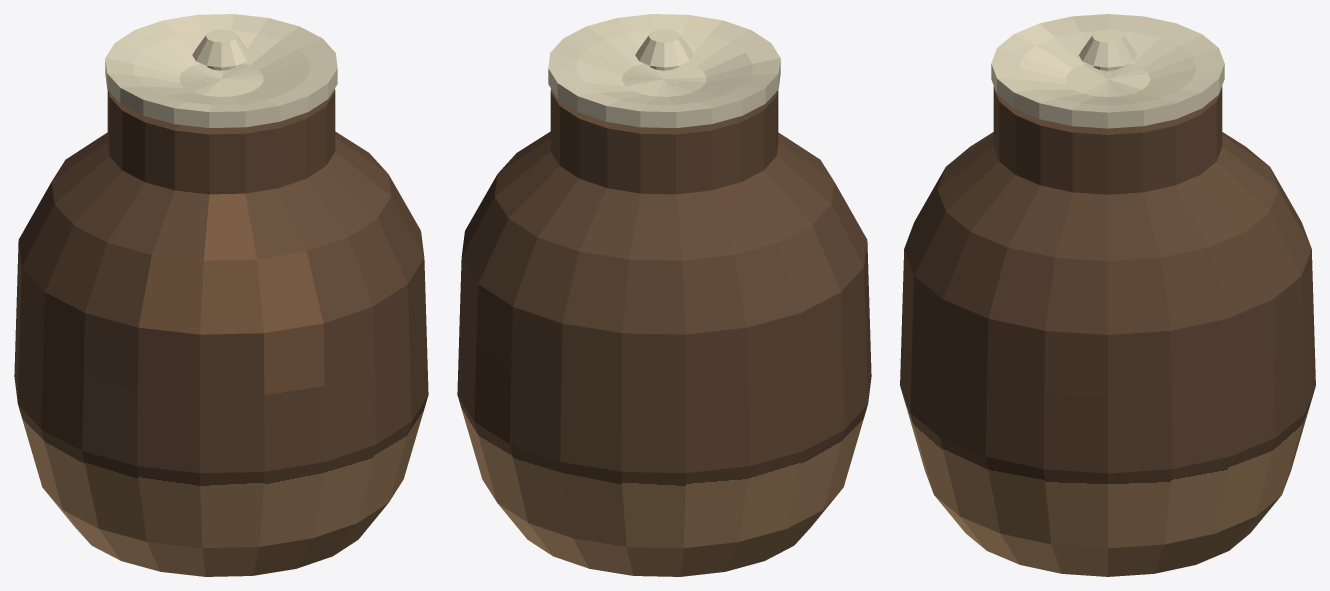
File: antique-seto-hitorine.glb
3 views of the same model, side by side, from view 1: azimuth 30°, elevation 25°; view 2: azimuth 150°, elevation 25°; view 3: azimuth 270°, elevation 25° (orthographic).
Visible parts, largest first — view 1: antique-seto-hitorine/vessel-3, antique-seto-hitorine/vessel-4, antique-seto-hitorine/vessel-2, antique-seto-hitorine/vessel-5, antique-seto-hitorine/vessel-6, antique-seto-hitorine/vessel-1, antique-seto-hitorine/lid-3, antique-seto-hitorine/lid-4, antique-seto-hitorine/lid-2, antique-seto-hitorine/lid-0, antique-seto-hitorine/lid-knob, antique-seto-hitorine/vessel-7; view 2: antique-seto-hitorine/vessel-3, antique-seto-hitorine/vessel-4, antique-seto-hitorine/vessel-2, antique-seto-hitorine/vessel-5, antique-seto-hitorine/vessel-6, antique-seto-hitorine/vessel-1, antique-seto-hitorine/lid-3, antique-seto-hitorine/lid-4, antique-seto-hitorine/lid-2, antique-seto-hitorine/lid-0, antique-seto-hitorine/lid-knob, antique-seto-hitorine/vessel-7; view 3: antique-seto-hitorine/vessel-3, antique-seto-hitorine/vessel-4, antique-seto-hitorine/vessel-2, antique-seto-hitorine/vessel-5, antique-seto-hitorine/vessel-6, antique-seto-hitorine/vessel-1, antique-seto-hitorine/lid-3, antique-seto-hitorine/lid-4, antique-seto-hitorine/lid-2, antique-seto-hitorine/lid-0, antique-seto-hitorine/lid-knob, antique-seto-hitorine/vessel-7.
Boxes of the visible parts, x1,y1,x2,y2 form: antique-seto-hitorine/vessel-3: [14, 242, 428, 473]; antique-seto-hitorine/vessel-4: [18, 175, 424, 334]; antique-seto-hitorine/vessel-2: [18, 395, 428, 548]; antique-seto-hitorine/vessel-5: [51, 131, 391, 260]; antique-seto-hitorine/vessel-6: [107, 90, 335, 194]; antique-seto-hitorine/vessel-1: [44, 489, 388, 576]; antique-seto-hitorine/lid-3: [105, 14, 337, 112]; antique-seto-hitorine/lid-4: [133, 30, 309, 104]; antique-seto-hitorine/lid-2: [105, 59, 337, 127]; antique-seto-hitorine/lid-0: [179, 63, 263, 96]; antique-seto-hitorine/lid-knob: [192, 29, 250, 67]; antique-seto-hitorine/vessel-7: [109, 89, 335, 134]; antique-seto-hitorine/vessel-3: [457, 242, 871, 473]; antique-seto-hitorine/vessel-4: [461, 175, 867, 334]; antique-seto-hitorine/vessel-2: [457, 395, 867, 548]; antique-seto-hitorine/vessel-5: [494, 131, 834, 260]; antique-seto-hitorine/vessel-6: [550, 90, 778, 194]; antique-seto-hitorine/vessel-1: [497, 489, 841, 576]; antique-seto-hitorine/lid-3: [548, 14, 780, 112]; antique-seto-hitorine/lid-4: [576, 30, 752, 104]; antique-seto-hitorine/lid-2: [548, 59, 780, 127]; antique-seto-hitorine/lid-0: [622, 63, 706, 96]; antique-seto-hitorine/lid-knob: [635, 29, 693, 67]; antique-seto-hitorine/vessel-7: [550, 89, 776, 134]; antique-seto-hitorine/vessel-3: [900, 249, 1315, 473]; antique-seto-hitorine/vessel-4: [904, 168, 1311, 334]; antique-seto-hitorine/vessel-2: [900, 387, 1315, 548]; antique-seto-hitorine/vessel-5: [937, 132, 1278, 260]; antique-seto-hitorine/vessel-6: [993, 87, 1222, 194]; antique-seto-hitorine/vessel-1: [934, 495, 1281, 576]; antique-seto-hitorine/lid-3: [991, 14, 1224, 112]; antique-seto-hitorine/lid-4: [1019, 31, 1196, 105]; antique-seto-hitorine/lid-2: [991, 64, 1224, 128]; antique-seto-hitorine/lid-0: [1065, 63, 1150, 97]; antique-seto-hitorine/lid-knob: [1079, 29, 1136, 67]; antique-seto-hitorine/vessel-7: [993, 86, 1222, 134].
Bounding box in the file's own units: 0.3125 × 0.3958 × 0.3125.
Materials: 4 (4 with a texture image).
